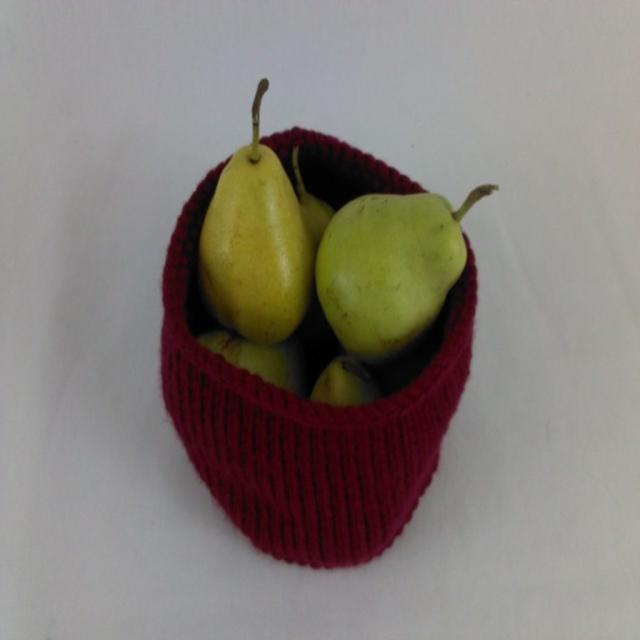pear: (314, 191, 466, 371), (196, 144, 312, 341), (191, 330, 305, 392), (292, 197, 338, 316), (304, 356, 380, 406)
